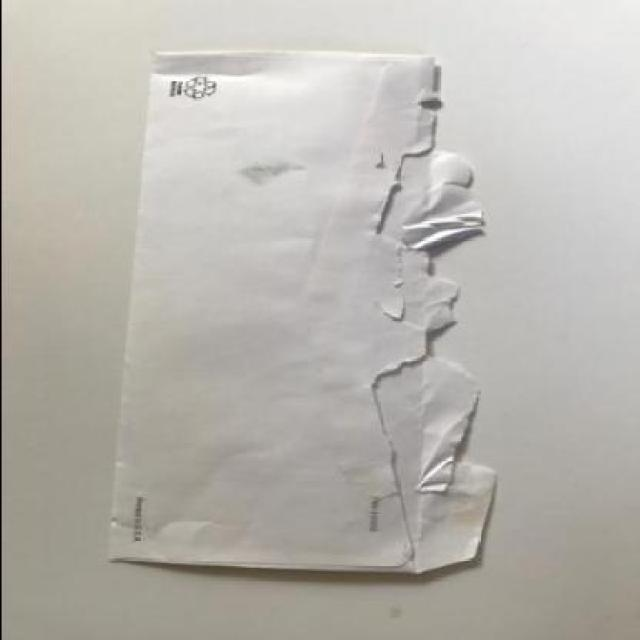PAPER: (107, 50, 498, 572)
